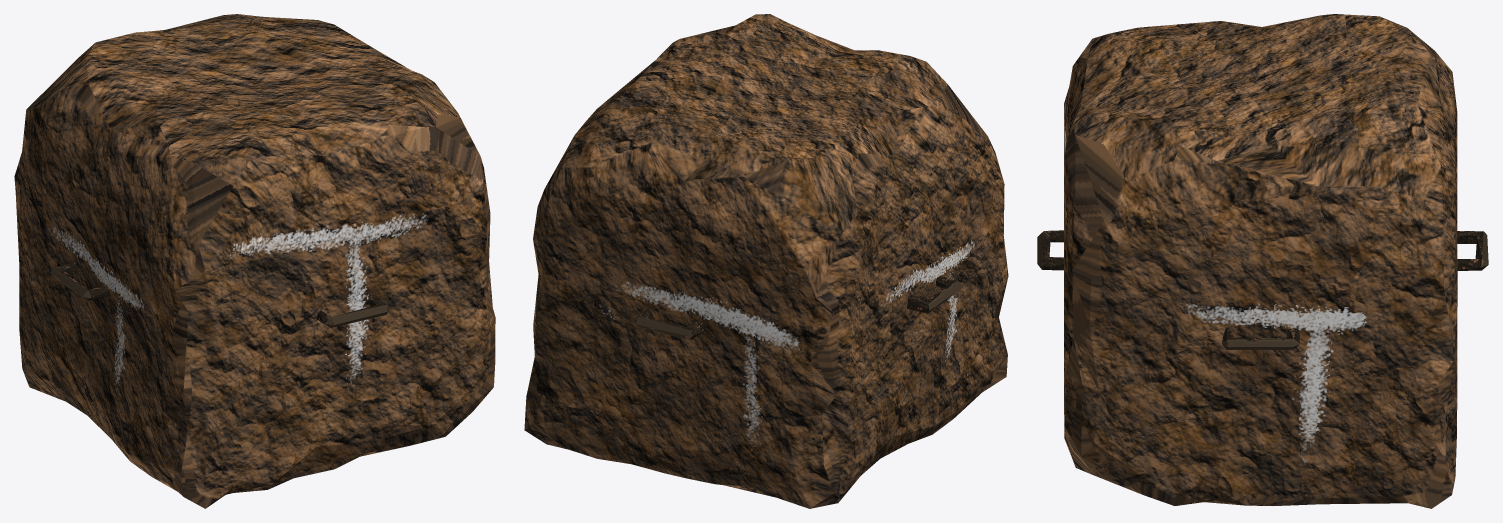
Rendered from PuzzlePieces.fbx.
3 views of the same model, side by side, from view 1: azimuth 30°, elevation 25°; view 2: azimuth 150°, elevation 25°; view 3: azimuth 270°, elevation 25° (orthographic). The views are drawn at different scales.
Parts seen in each view (by area): view 1: Cube; view 2: Cube; view 3: Cube.
Part boxes in pixels (x1=…): Cube: x1=14, y1=14, x2=495, y2=508; Cube: x1=524, y1=14, x2=1008, y2=508; Cube: x1=1037, y1=14, x2=1488, y2=508.
Bounding box in the file's own units: 395 × 341 × 391.
2 materials, 2 textured.
